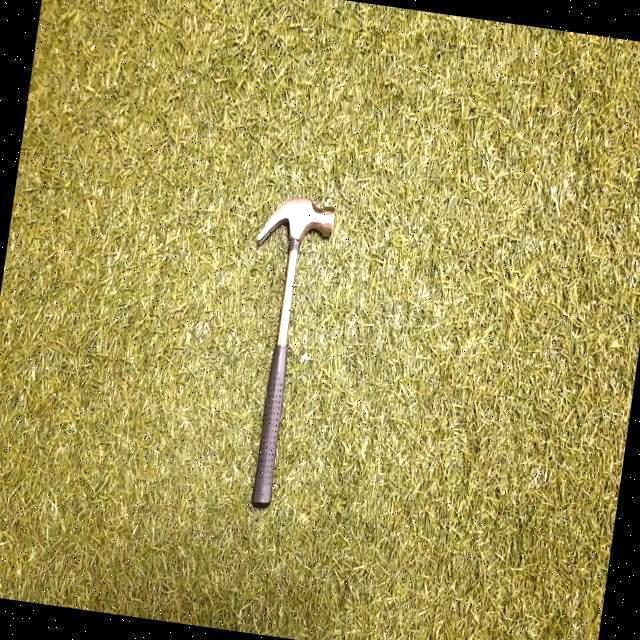hammer: (251, 196, 337, 508)
